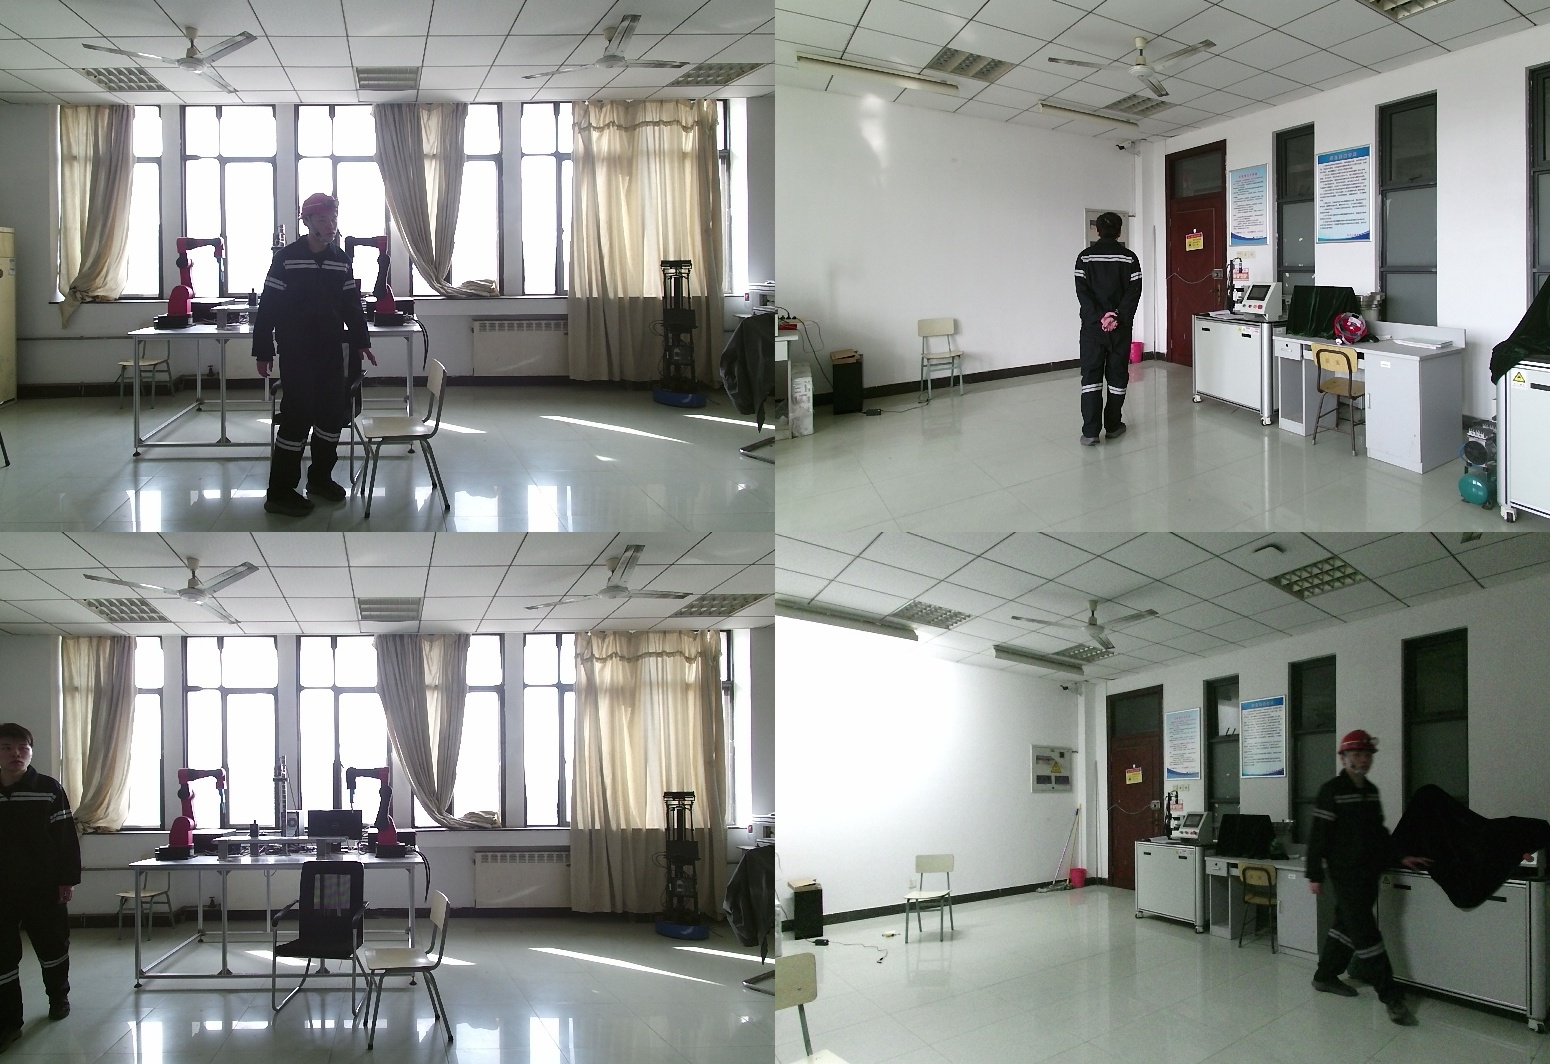person: (256, 191, 388, 511), (1295, 730, 1427, 1016), (3, 723, 88, 1048), (1064, 211, 1147, 448)
